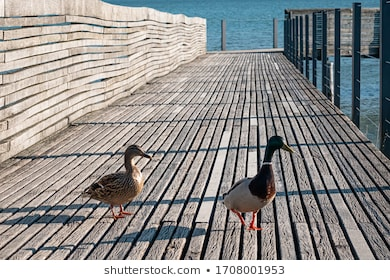duck: (200, 130, 325, 245), (78, 142, 166, 230)
